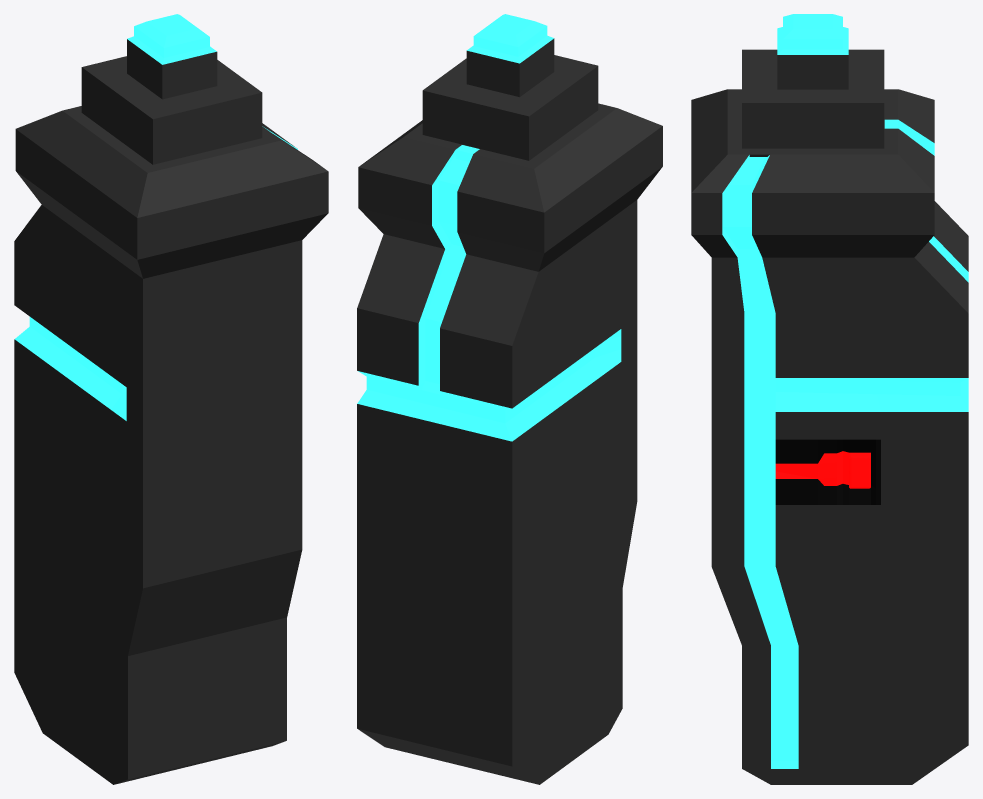
The model's file is GrappleHandle.fbx.
The picture shows the model from 3 angles, left to right: view 1: azimuth 30°, elevation 25°; view 2: azimuth 150°, elevation 25°; view 3: azimuth 270°, elevation 25°; orthographic projection. The views are drawn at different scales.
Parts seen in each view (by area): view 1: Cube; view 2: Cube; view 3: Cube.
Part boxes in pixels (<box>): Cube: <box>14,14,328,784</box>; Cube: <box>357,14,662,784</box>; Cube: <box>691,14,968,784</box>.
Size of the model in its own units: 11.59 by 42.03 by 14.58.
